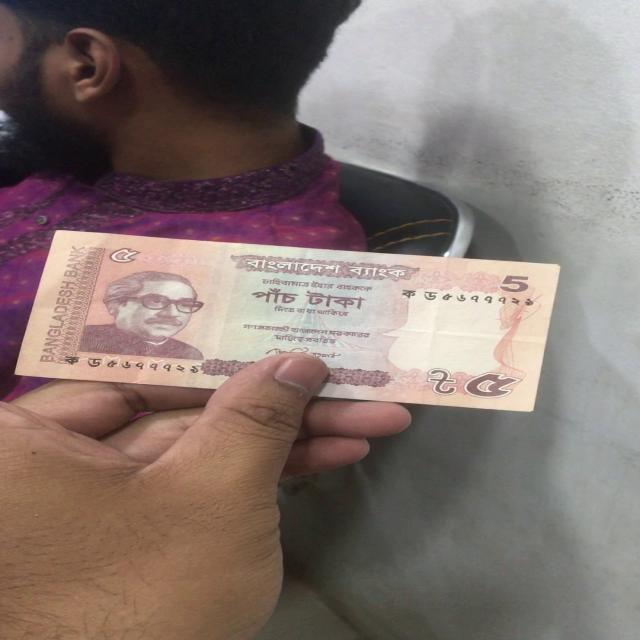Taka: (34, 228, 545, 412)
